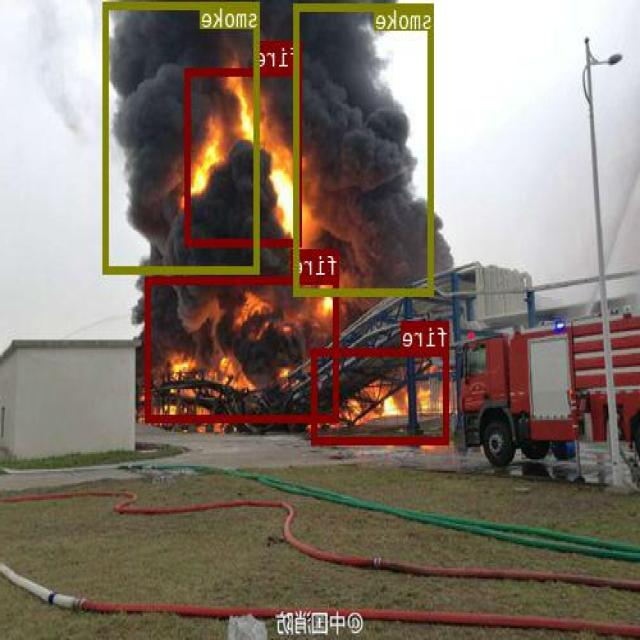fire: (147, 276, 340, 420), (186, 68, 302, 245), (314, 347, 451, 444)
smoke: (105, 1, 261, 273), (295, 2, 434, 294)
